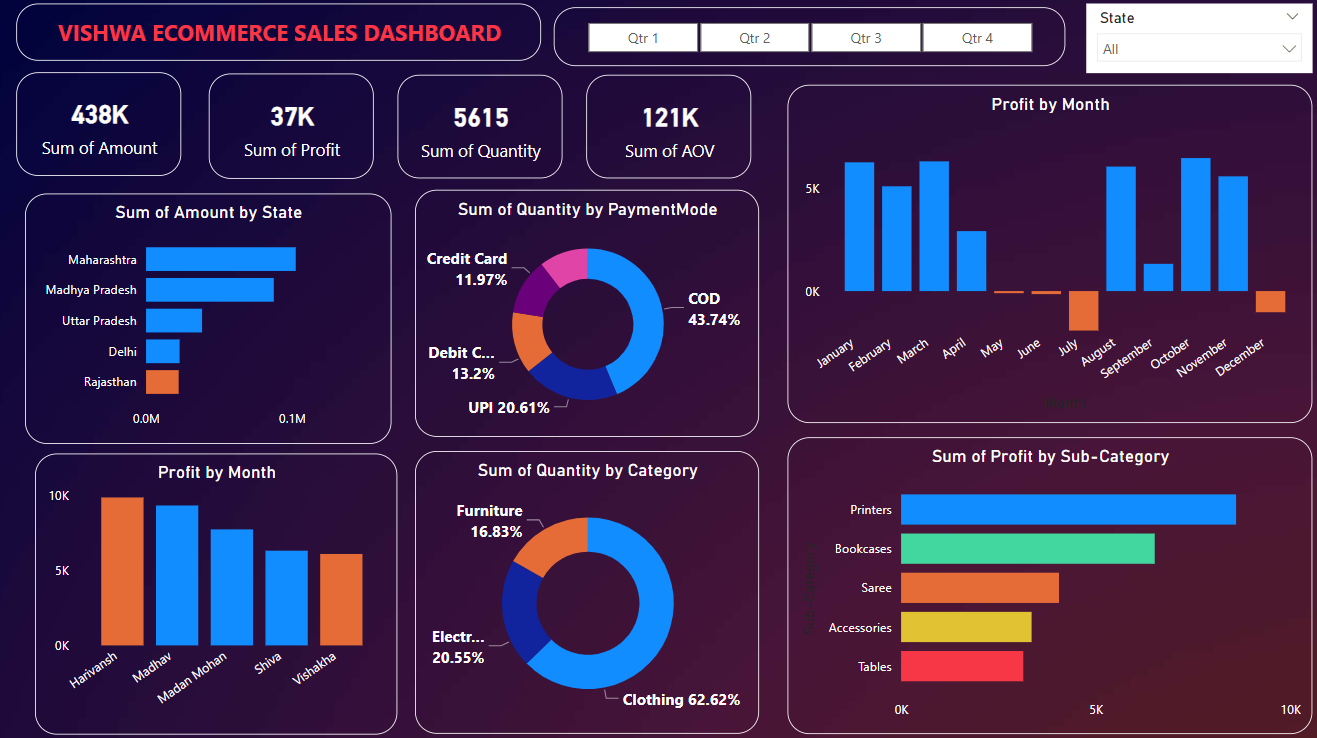

Layout of this report page (visuals, bound fields, positions):
{"tool":"powerbi","page":{"name":"Page 1","canvas":[1280,720],"ordinal":0},"visuals":[{"type":"textbox","box":[20.5,7.2,506.5,55.5],"z":0},{"type":"columnChart","title":" Profit by Month","fields":{"Y":["Details.Profit"],"Category":["Orders.Order Date.Variation.Date Hierarchy.Month"]},"box":[764.3,85.1,506.3,326.6],"z":1000},{"type":"barChart","fields":{"Category":["Details.Sub-Category"],"Y":["Details.Profit"]},"box":[764.3,425.4,506.3,286.8],"z":2000},{"type":"donutChart","fields":{"Category":["Details.Category"],"Y":["Details.Quantity"]},"box":[404.8,439.1,332.1,273.1],"z":3000},{"type":"donutChart","fields":{"Y":["Details.Quantity"],"Category":["Details.PaymentMode"]},"box":[404.8,186.6,332.1,238.8],"z":4000},{"type":"card","fields":{"Values":["Details.Profit"]},"box":[206.2,74.8,159.2,101.3],"z":5000},{"type":"card","fields":{"Values":["Details.Quantity"]},"box":[388.3,76,159.2,100.1],"z":6000},{"type":"card","fields":{"Values":["Details.Amount"]},"box":[20.6,74.1,159.2,100.2],"z":7000},{"type":"card","fields":{"Values":["Details.AOV"]},"box":[570.5,76,159.2,100.1],"z":8000},{"type":"barChart","fields":{"Category":["Orders.State"],"Y":["Details.Amount"]},"box":[28.9,190.6,353.4,241.2],"z":9000},{"type":"columnChart","title":" Profit by Month","fields":{"Y":["Details.Amount"],"Category":["Orders.CustomerName"]},"box":[38.6,441.4,349.7,271.4],"z":10000},{"type":"slicer","fields":{"Values":["Orders.Order Date.Variation.Date Hierarchy.Quarter"]},"box":[539.1,10.9,493.3,56.7],"z":11000},{"type":"slicer","fields":{"Values":["Orders.State"]},"box":[1052.5,6.9,218.2,67.2],"z":12000}]}

Visuals, with their boxes in screenshot pixels (x1, y1, x2, y2), scaled from the page's 1280x720 canvas onto the 1317x738 screenshot:
textbox: (21, 7, 542, 64)
" Profit by Month" columnChart: (786, 87, 1307, 422)
barChart - Details.Sub-Category x Details.Profit: (786, 436, 1307, 730)
donutChart - Details.Category x Details.Quantity: (417, 450, 758, 730)
donutChart - Details.Quantity x Details.PaymentMode: (417, 191, 758, 436)
card - Details.Profit: (212, 77, 376, 181)
card - Details.Quantity: (400, 78, 563, 181)
card - Details.Amount: (21, 76, 185, 179)
card - Details.AOV: (587, 78, 751, 181)
barChart - Orders.State x Details.Amount: (30, 195, 393, 443)
" Profit by Month" columnChart: (40, 452, 400, 731)
slicer - Orders.Order Date.Variation.Date Hierarchy.Quarter: (555, 11, 1062, 69)
slicer - Orders.State: (1083, 7, 1307, 76)
